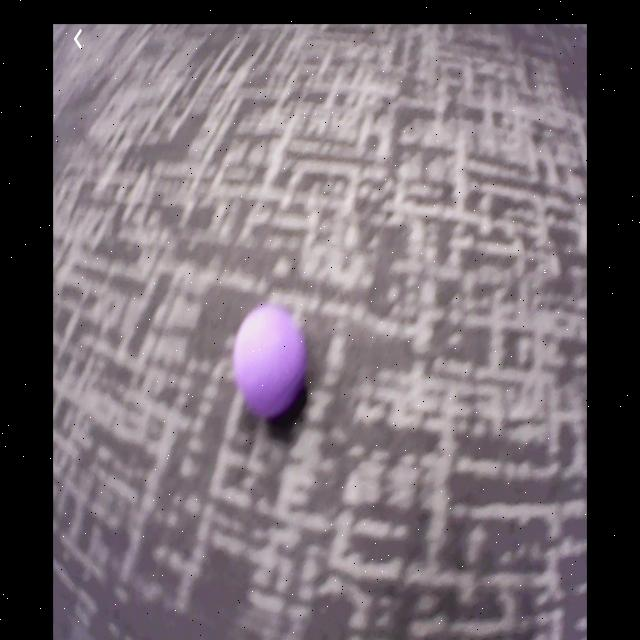ball: (237, 309, 306, 412)
